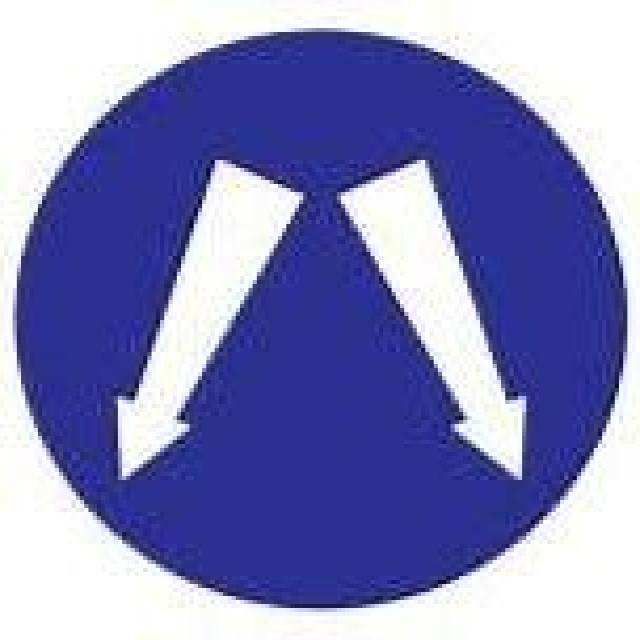pass either side: (18, 23, 632, 611)
